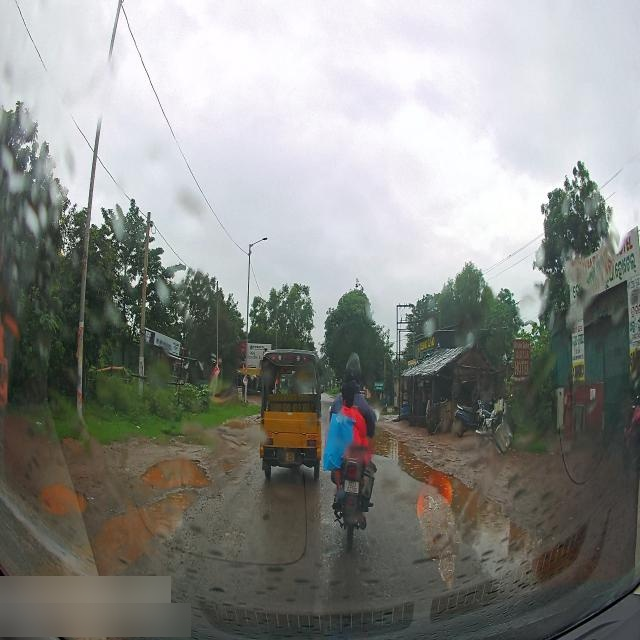pothole: (131, 443, 231, 494), (36, 461, 100, 527), (452, 508, 526, 552), (414, 469, 476, 496), (222, 412, 256, 442), (382, 440, 423, 464)
